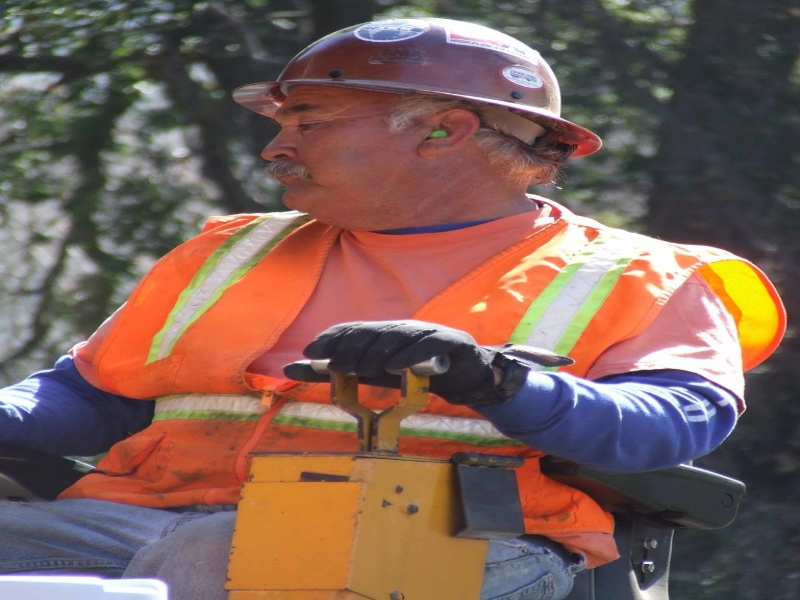helmet: (238, 18, 581, 150)
jacket: (57, 222, 724, 507)
